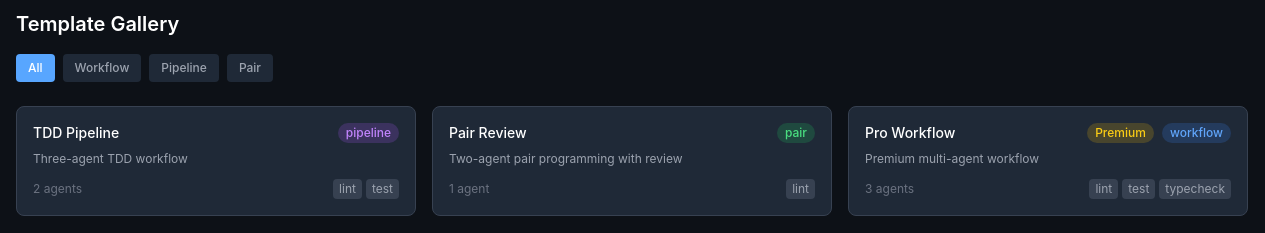
Test: TemplateGallery › category filter works - shows only matching templates
Expected: the element with test id "template-card-tdd-pipeline" is shown, [16,106,416,216]
Click "Pipeline" filter
Click the button with test id "filter-pipeline" at (184, 68), box [149,54,219,82]
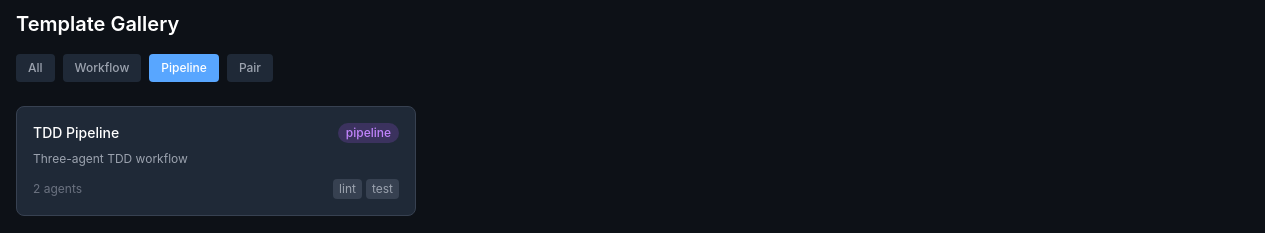
Expected: the element with test id "template-card-tdd-pipeline" is shown, [16,106,416,216]
Expected: the element with test id "template-card-pair-review" is gone
Expected: the element with test id "template-card-pro-workflow" is gone
Click "All" to reset
Click the button with test id "filter-all" at (35, 68), box [16,54,55,82]
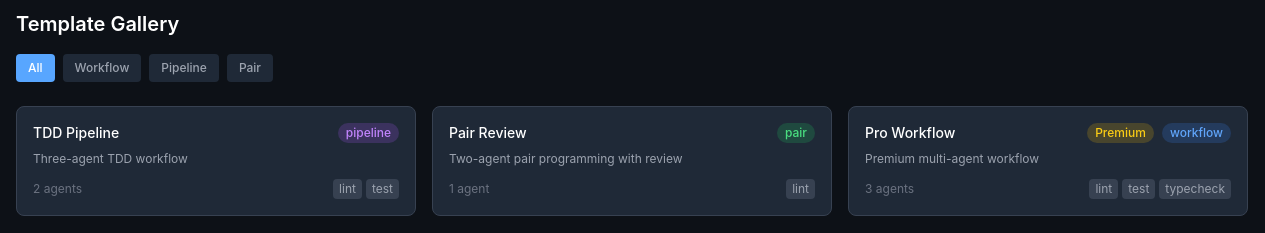
Expected: the element with test id "template-card-tdd-pipeline" is shown, [16,106,416,216]
Expected: the element with test id "template-card-pair-review" is shown, [432,106,832,216]
Expected: the element with test id "template-card-pro-workflow" is shown, [848,106,1248,216]
